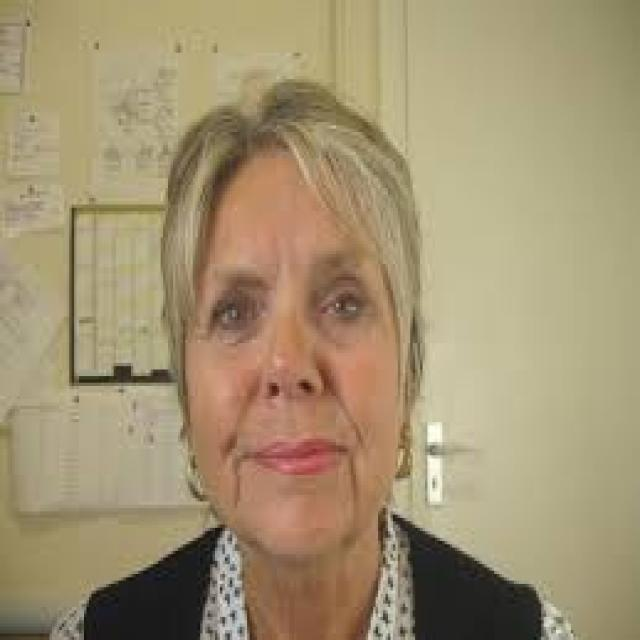stroke_face: (176, 114, 418, 570)
